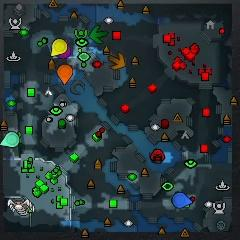p1: (172, 192, 192, 208)
p2: (0, 131, 20, 147)
p3: (57, 39, 72, 61)
p4: (50, 39, 67, 57)
p5: (56, 64, 73, 85)
x4: (90, 26, 108, 44)
x5: (109, 53, 125, 70)
